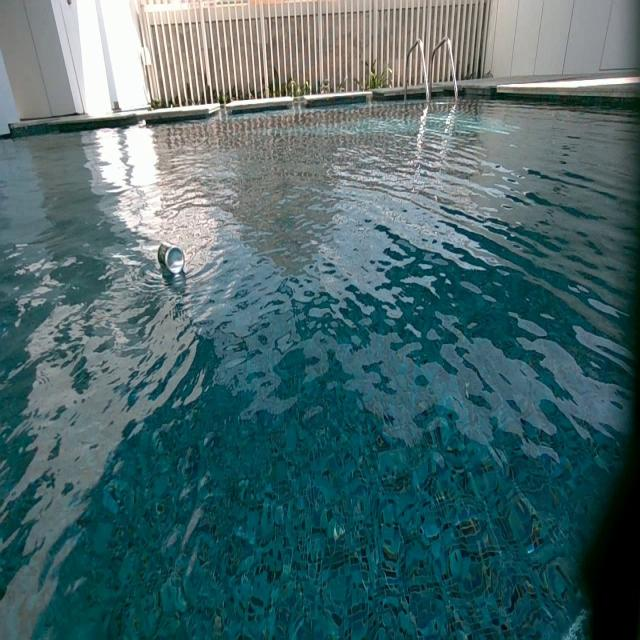Cans: (159, 244, 187, 275)
